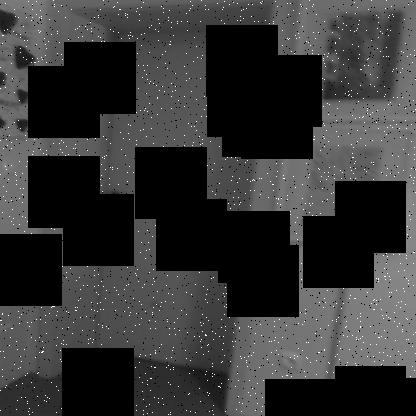Porte: (38, 0, 298, 415)
